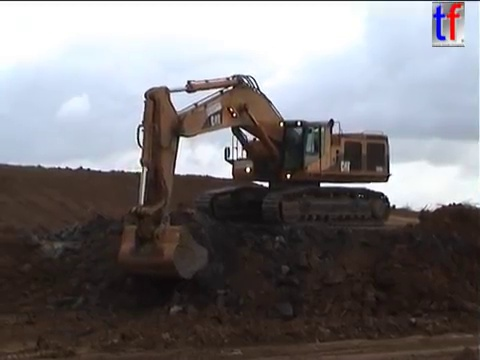excavator: (115, 71, 394, 282)
